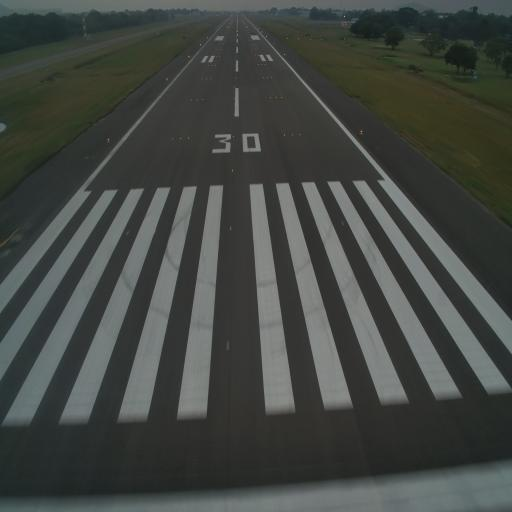on: (228, 223, 234, 234), (226, 340, 231, 351), (340, 219, 346, 227), (106, 135, 111, 144), (126, 227, 130, 238), (178, 136, 183, 144), (230, 166, 235, 174), (187, 133, 191, 142), (282, 130, 286, 138), (290, 130, 294, 138), (171, 135, 175, 142), (360, 129, 364, 136), (298, 129, 301, 137), (232, 134, 236, 140)
